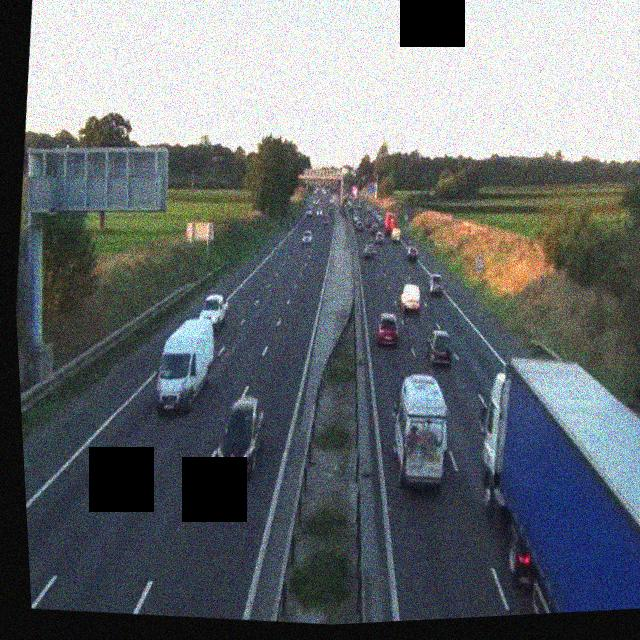car: (213, 386, 270, 481), (424, 326, 456, 368), (198, 290, 230, 331), (374, 310, 401, 347), (398, 280, 423, 313), (425, 271, 445, 297), (361, 241, 376, 259), (406, 244, 419, 259), (301, 228, 312, 243), (373, 230, 384, 243), (320, 212, 330, 226), (355, 218, 364, 232), (328, 200, 335, 212)
truck: (454, 348, 640, 617), (384, 370, 456, 493), (383, 211, 398, 236)
